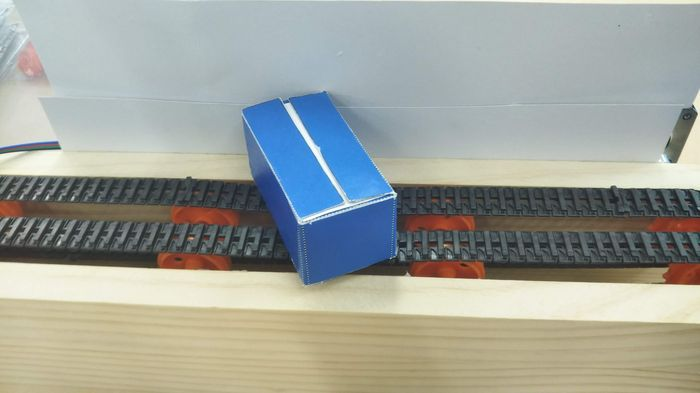box3: (237, 87, 400, 284)
